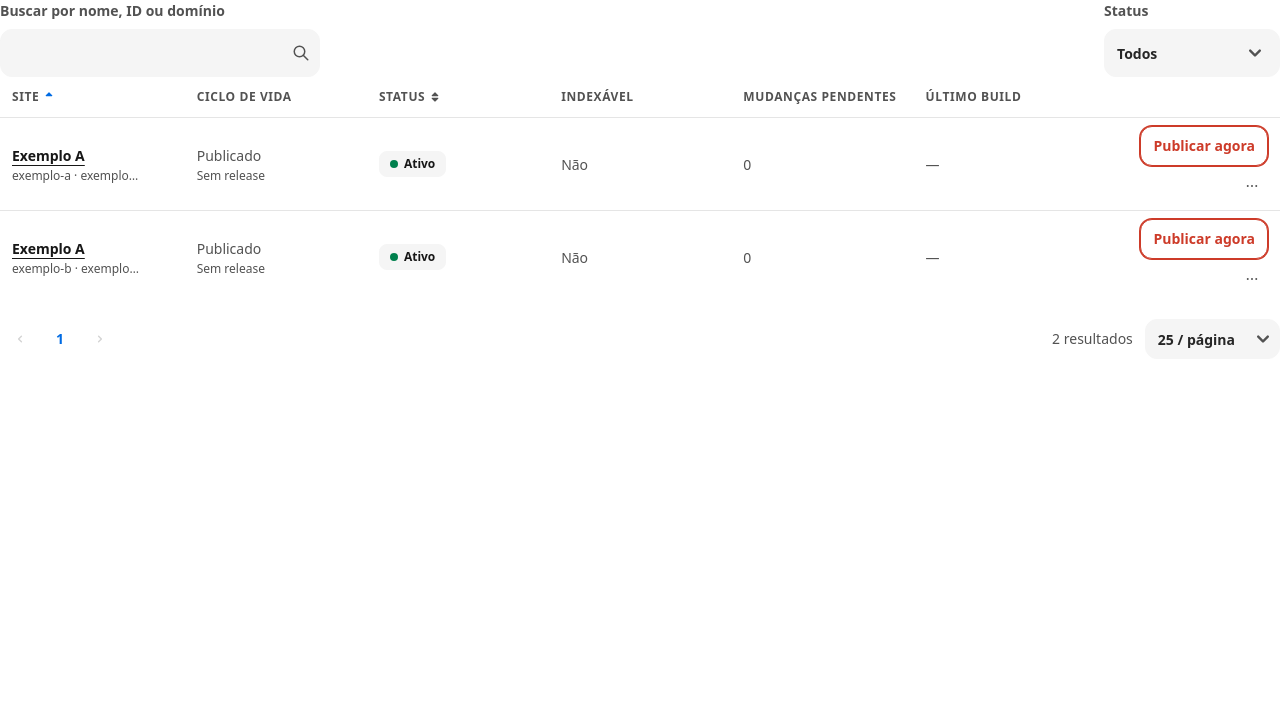
Test: tabela de sites › o erro de "Publicar agora" vai para um único Alert do cartão, acima da tabela, fora da linha
The width and height of the screenshot is (1280, 720).
Click the button named "Publicar agora exemplo-b": [1204, 239] box [1140,219,1268,259]
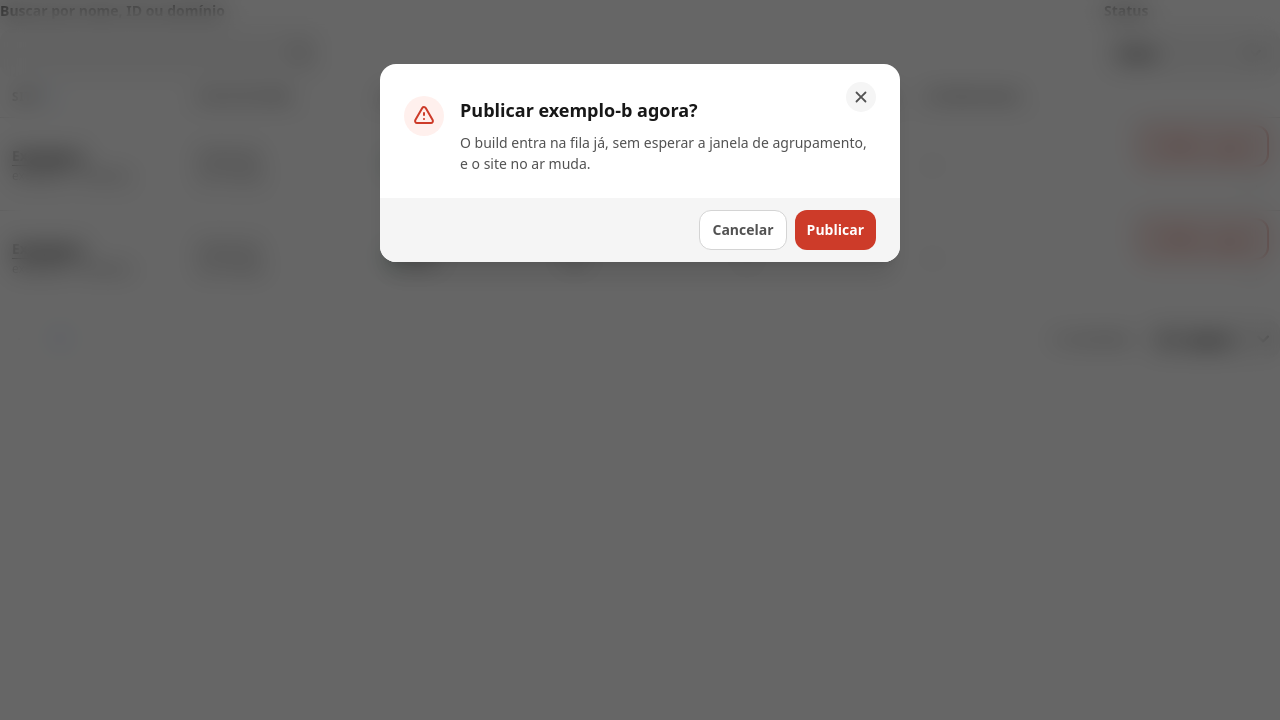
Click the button "Publicar": [835, 230] box [795,210,876,250]
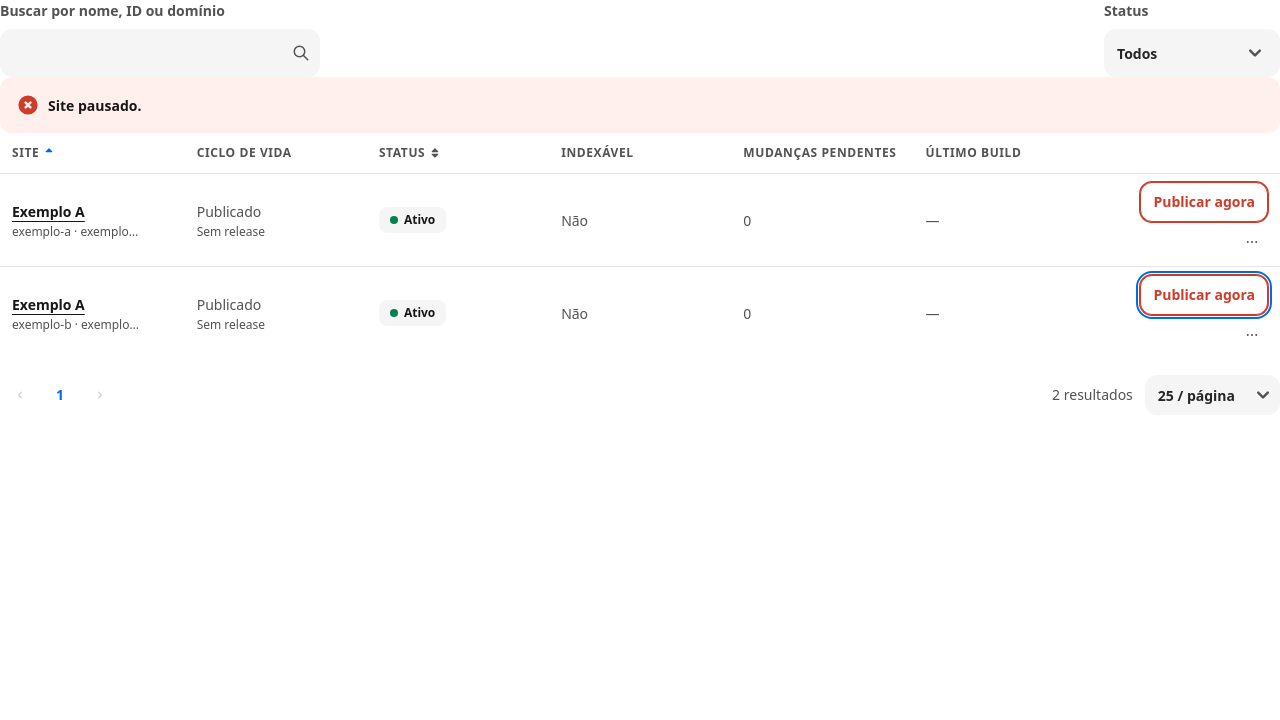
Check: the message "Site pausado." is shown, box [0,77,1279,133]
